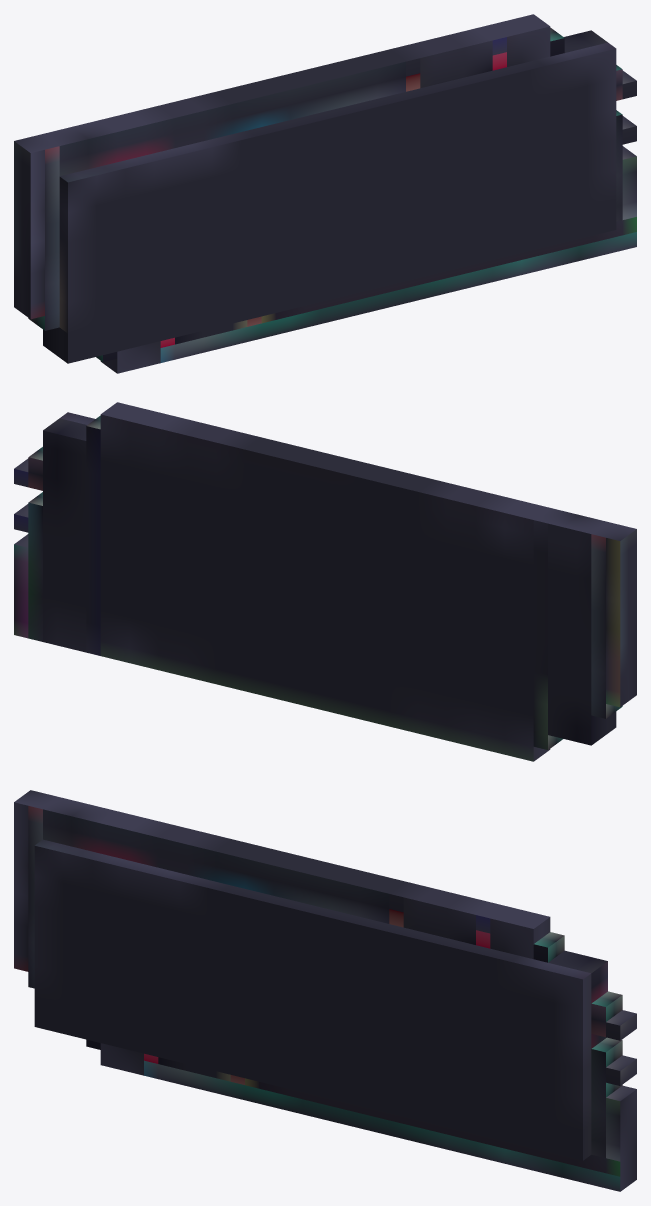
The model's file is Electronics_Plate_Small_F_00.fbx.
3 views of the same model, one above another, from view 1: azimuth 30°, elevation 25°; view 2: azimuth 150°, elevation 25°; view 3: azimuth 330°, elevation 25° (orthographic).
Parts seen in each view (by area): view 1: Electronics_Plate_Small_F_00; view 2: Electronics_Plate_Small_F_00; view 3: Electronics_Plate_Small_F_00.
Boxes of the visible parts, bbox=[...] form: Electronics_Plate_Small_F_00: bbox=[14, 14, 636, 373]; Electronics_Plate_Small_F_00: bbox=[14, 402, 636, 761]; Electronics_Plate_Small_F_00: bbox=[14, 790, 636, 1191].
Size of the model in its own units: 210 by 80 by 15.
